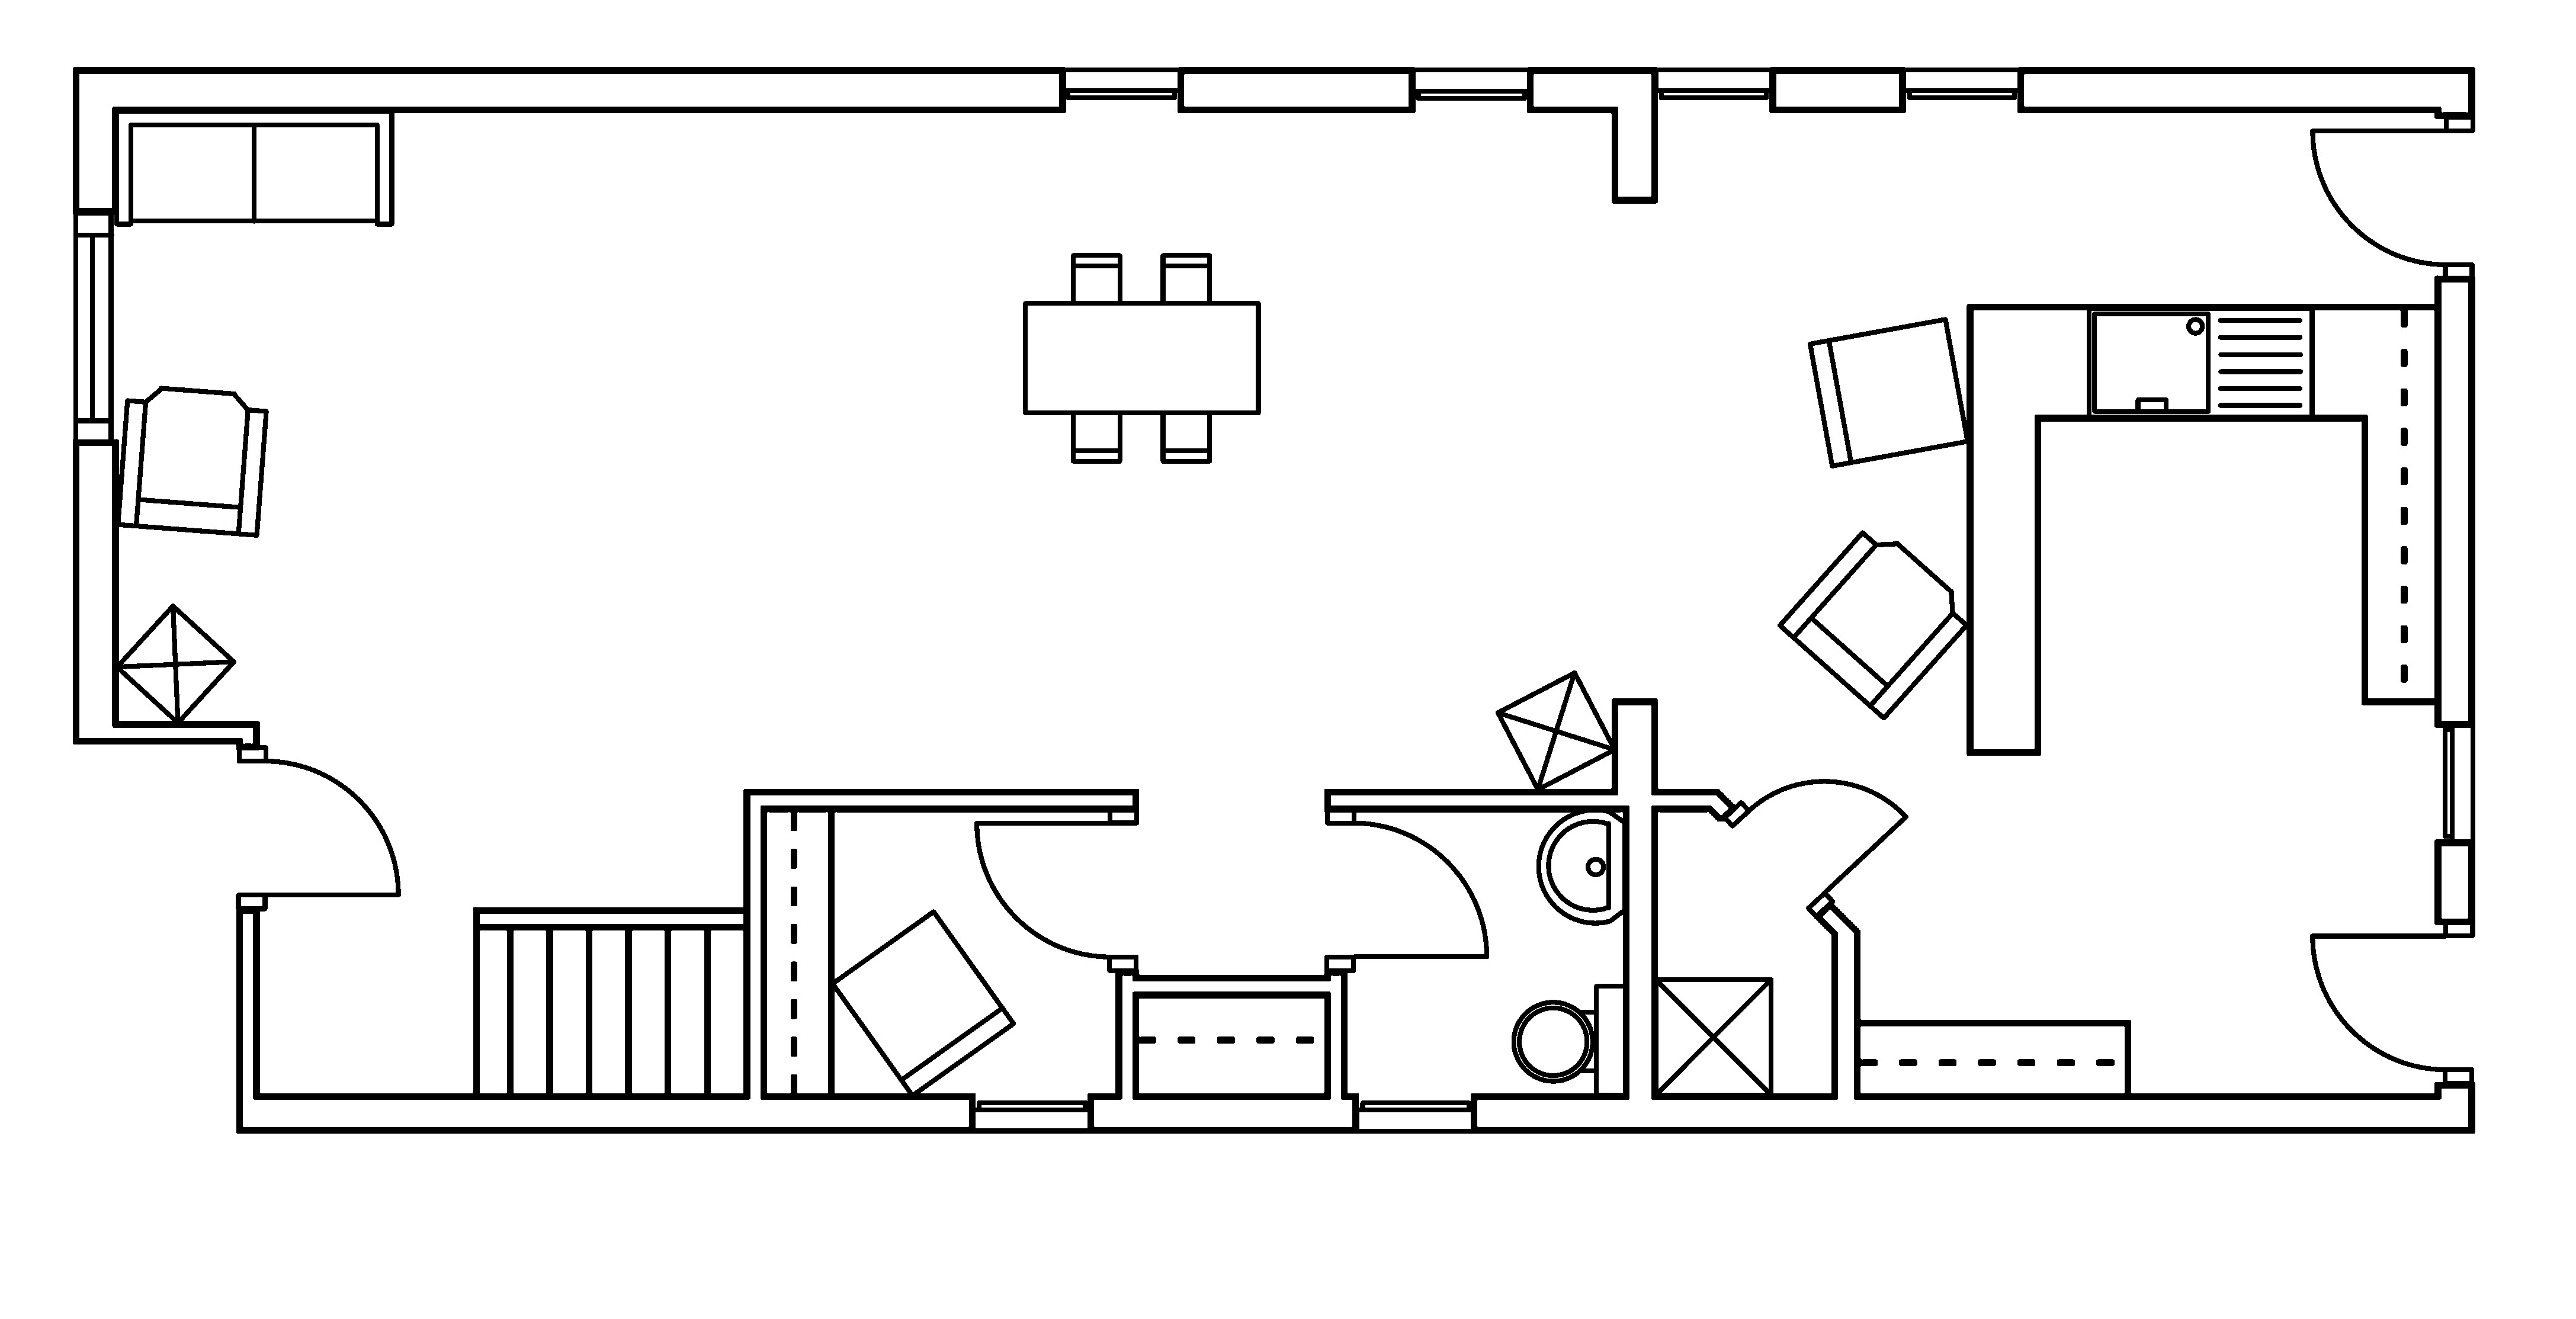armchair: (1776, 528, 1969, 720), (114, 384, 269, 538)
coffee_table: (113, 602, 237, 725), (1493, 670, 1618, 792), (1651, 976, 1774, 1097)
dining_table: (1022, 252, 1261, 464)
large_sink: (1512, 983, 1628, 1097)
large_sofa: (113, 108, 395, 227)
sink: (2085, 305, 2314, 421)
small_sink: (1535, 808, 1628, 925)
small_sofa: (829, 908, 1016, 1099), (1806, 316, 1971, 468)
